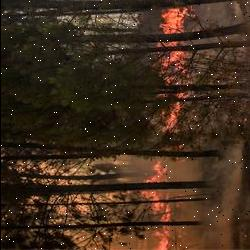fire: (149, 0, 195, 136), (138, 156, 192, 250)
